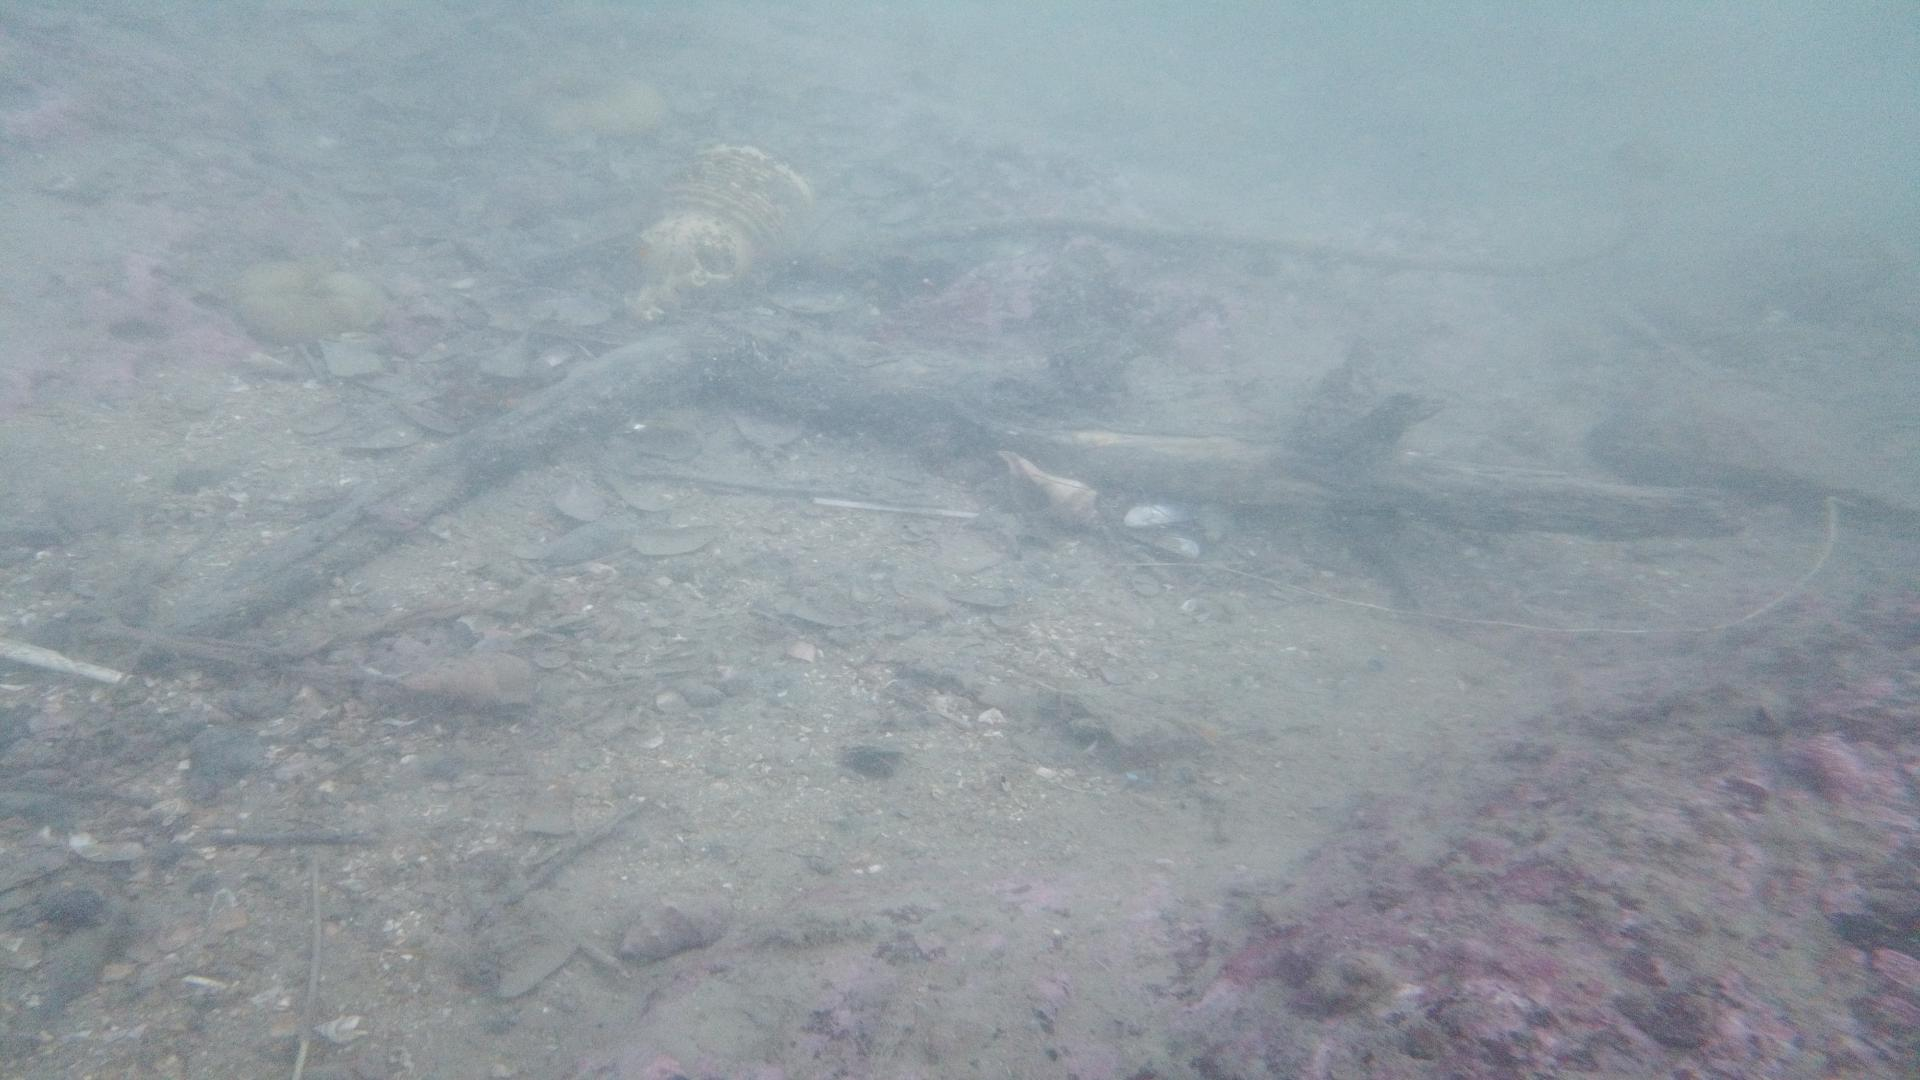rope: (885, 218, 1659, 262)
wood: (127, 307, 1753, 661)
